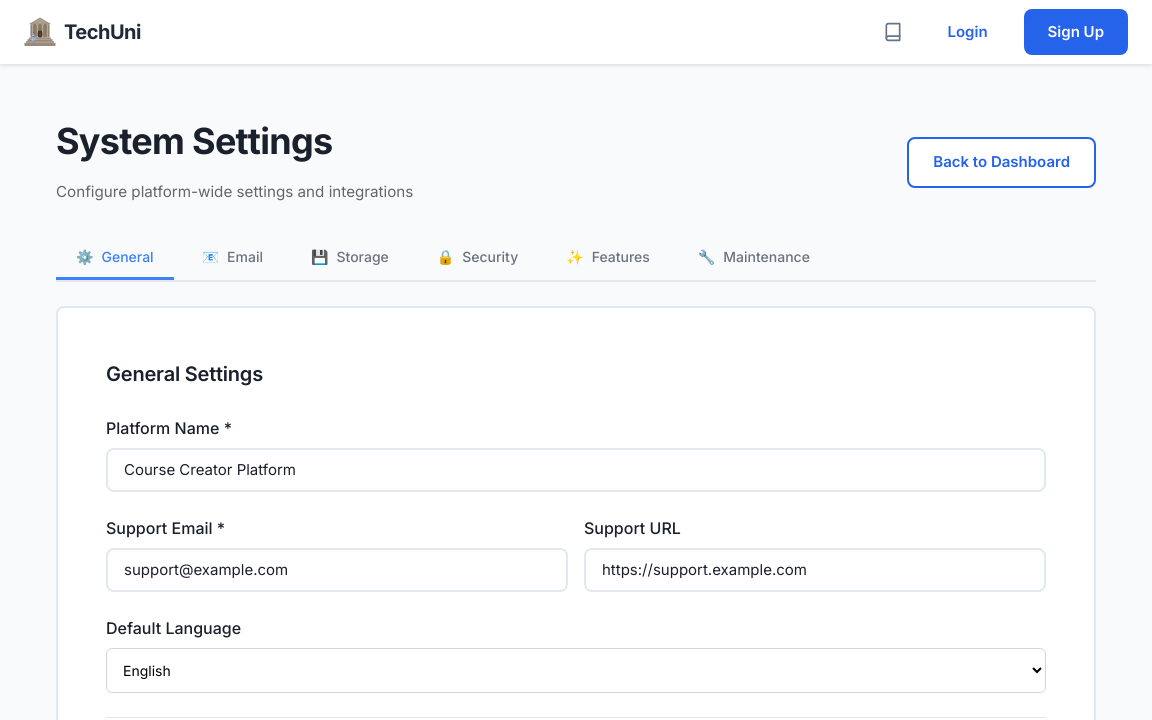
Test: SystemSettings Component › Tab Navigation › switches to features tab
The width and height of the screenshot is (1152, 720).
Click the button "✨Features".
click(608, 258)  # box [546,236,670,280]
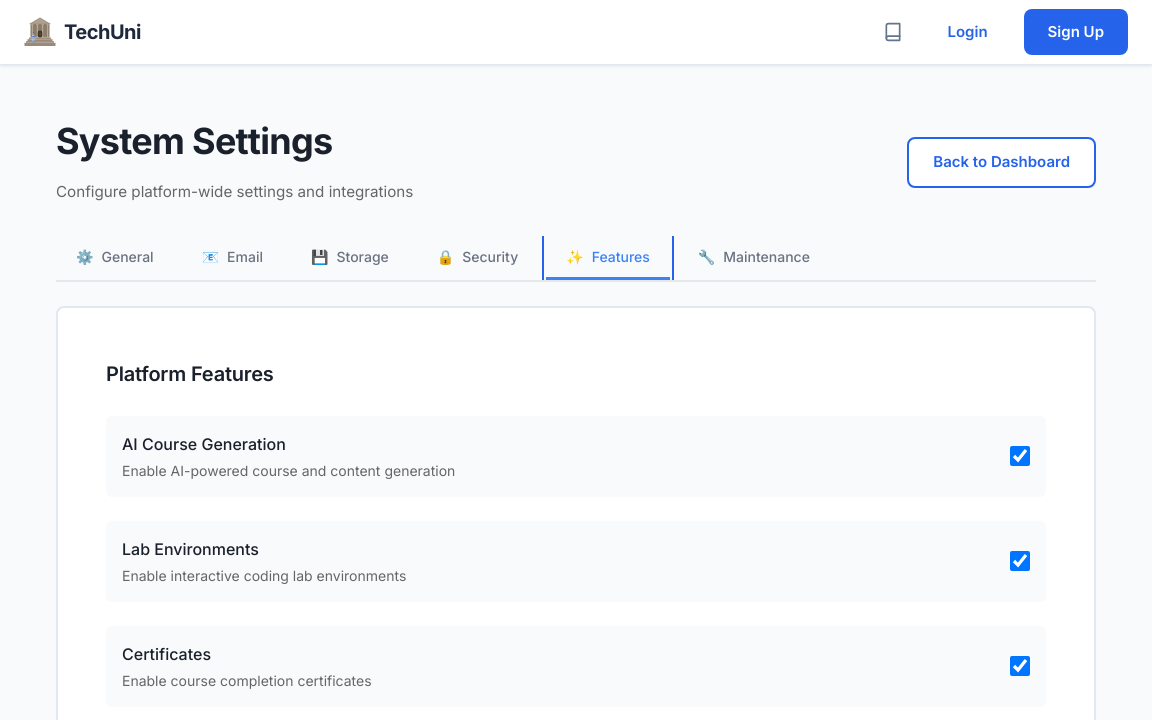
Check: the text "AI Course Generation" is shown, box [122,434,286,454]
